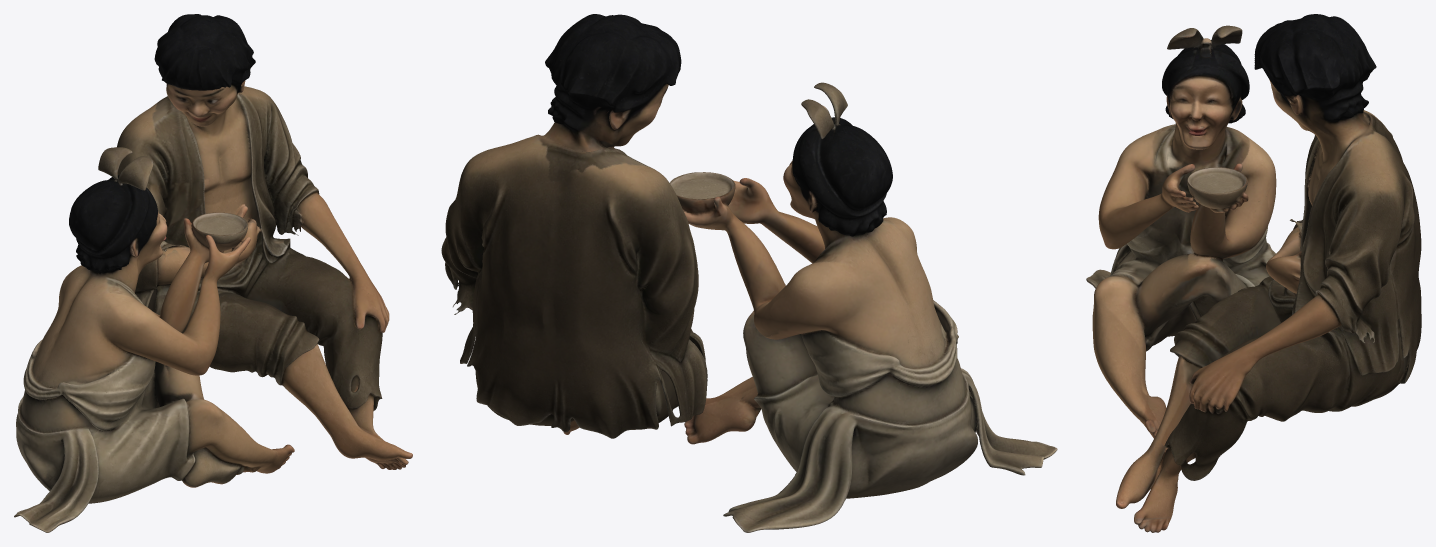
The model's file is truyen_kieu_hero.glb.
The picture shows the model from 3 angles, left to right: view 1: azimuth 30°, elevation 25°; view 2: azimuth 150°, elevation 25°; view 3: azimuth 270°, elevation 25°; orthographic projection. The views are drawn at different scales.
Bounding box in the file's own units: 1.85 × 1.82 × 1.21.
1 material, 1 textured.
